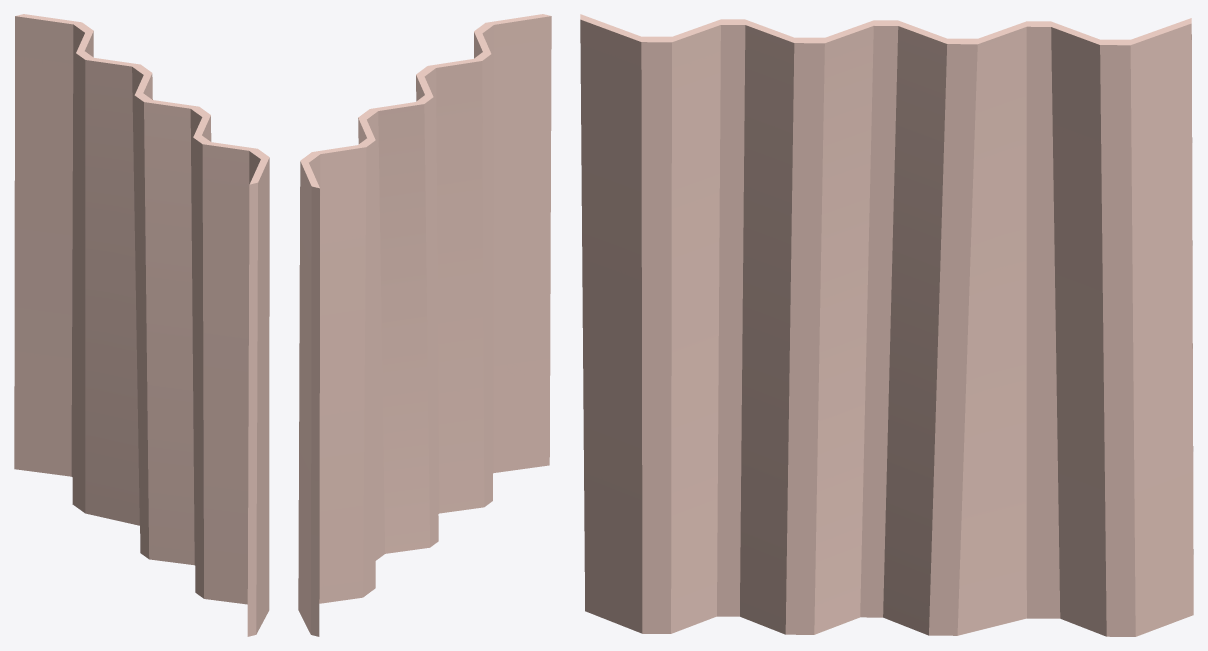
File: Bedroom_2_Curtain_2.fbx
3 views of the same model, side by side, from view 1: azimuth 30°, elevation 25°; view 2: azimuth 150°, elevation 25°; view 3: azimuth 270°, elevation 25° (orthographic). The views are drawn at different scales.
Visible parts, largest first — view 1: Bedroom_2_Curtain_2; view 2: Bedroom_2_Curtain_2; view 3: Bedroom_2_Curtain_2.
Part boxes in pixels (x1=…): Bedroom_2_Curtain_2: x1=14, y1=14, x2=269, y2=636; Bedroom_2_Curtain_2: x1=298, y1=14, x2=551, y2=636; Bedroom_2_Curtain_2: x1=580, y1=14, x2=1193, y2=636.
Bounding box in the file's own units: 16.35 × 164 × 153.
